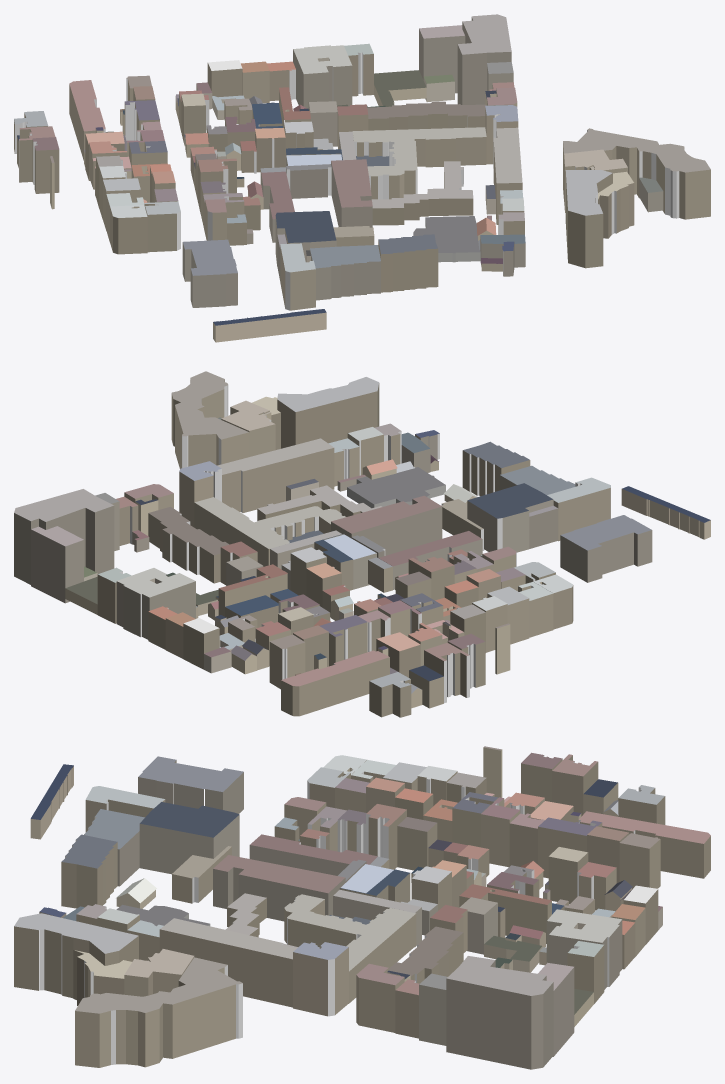
The picture shows the model from 3 angles, top to bottom: view 1: azimuth 30°, elevation 25°; view 2: azimuth 150°, elevation 25°; view 3: azimuth 270°, elevation 25°; orthographic projection. The views are drawn at different scales.
Parts seen in each view (by area): view 1: tuile; view 2: tuile; view 3: tuile.
Part boxes in pixels (bbox=[...]): tuile: bbox=[14, 14, 710, 342]; tuile: bbox=[14, 371, 710, 717]; tuile: bbox=[14, 746, 710, 1069].
Size of the model in its own units: 278 by 35.72 by 287.
